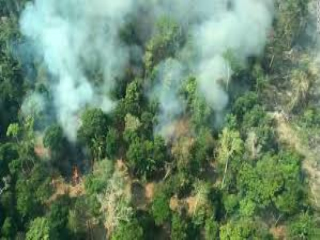smoke: (20, 11, 251, 130)
